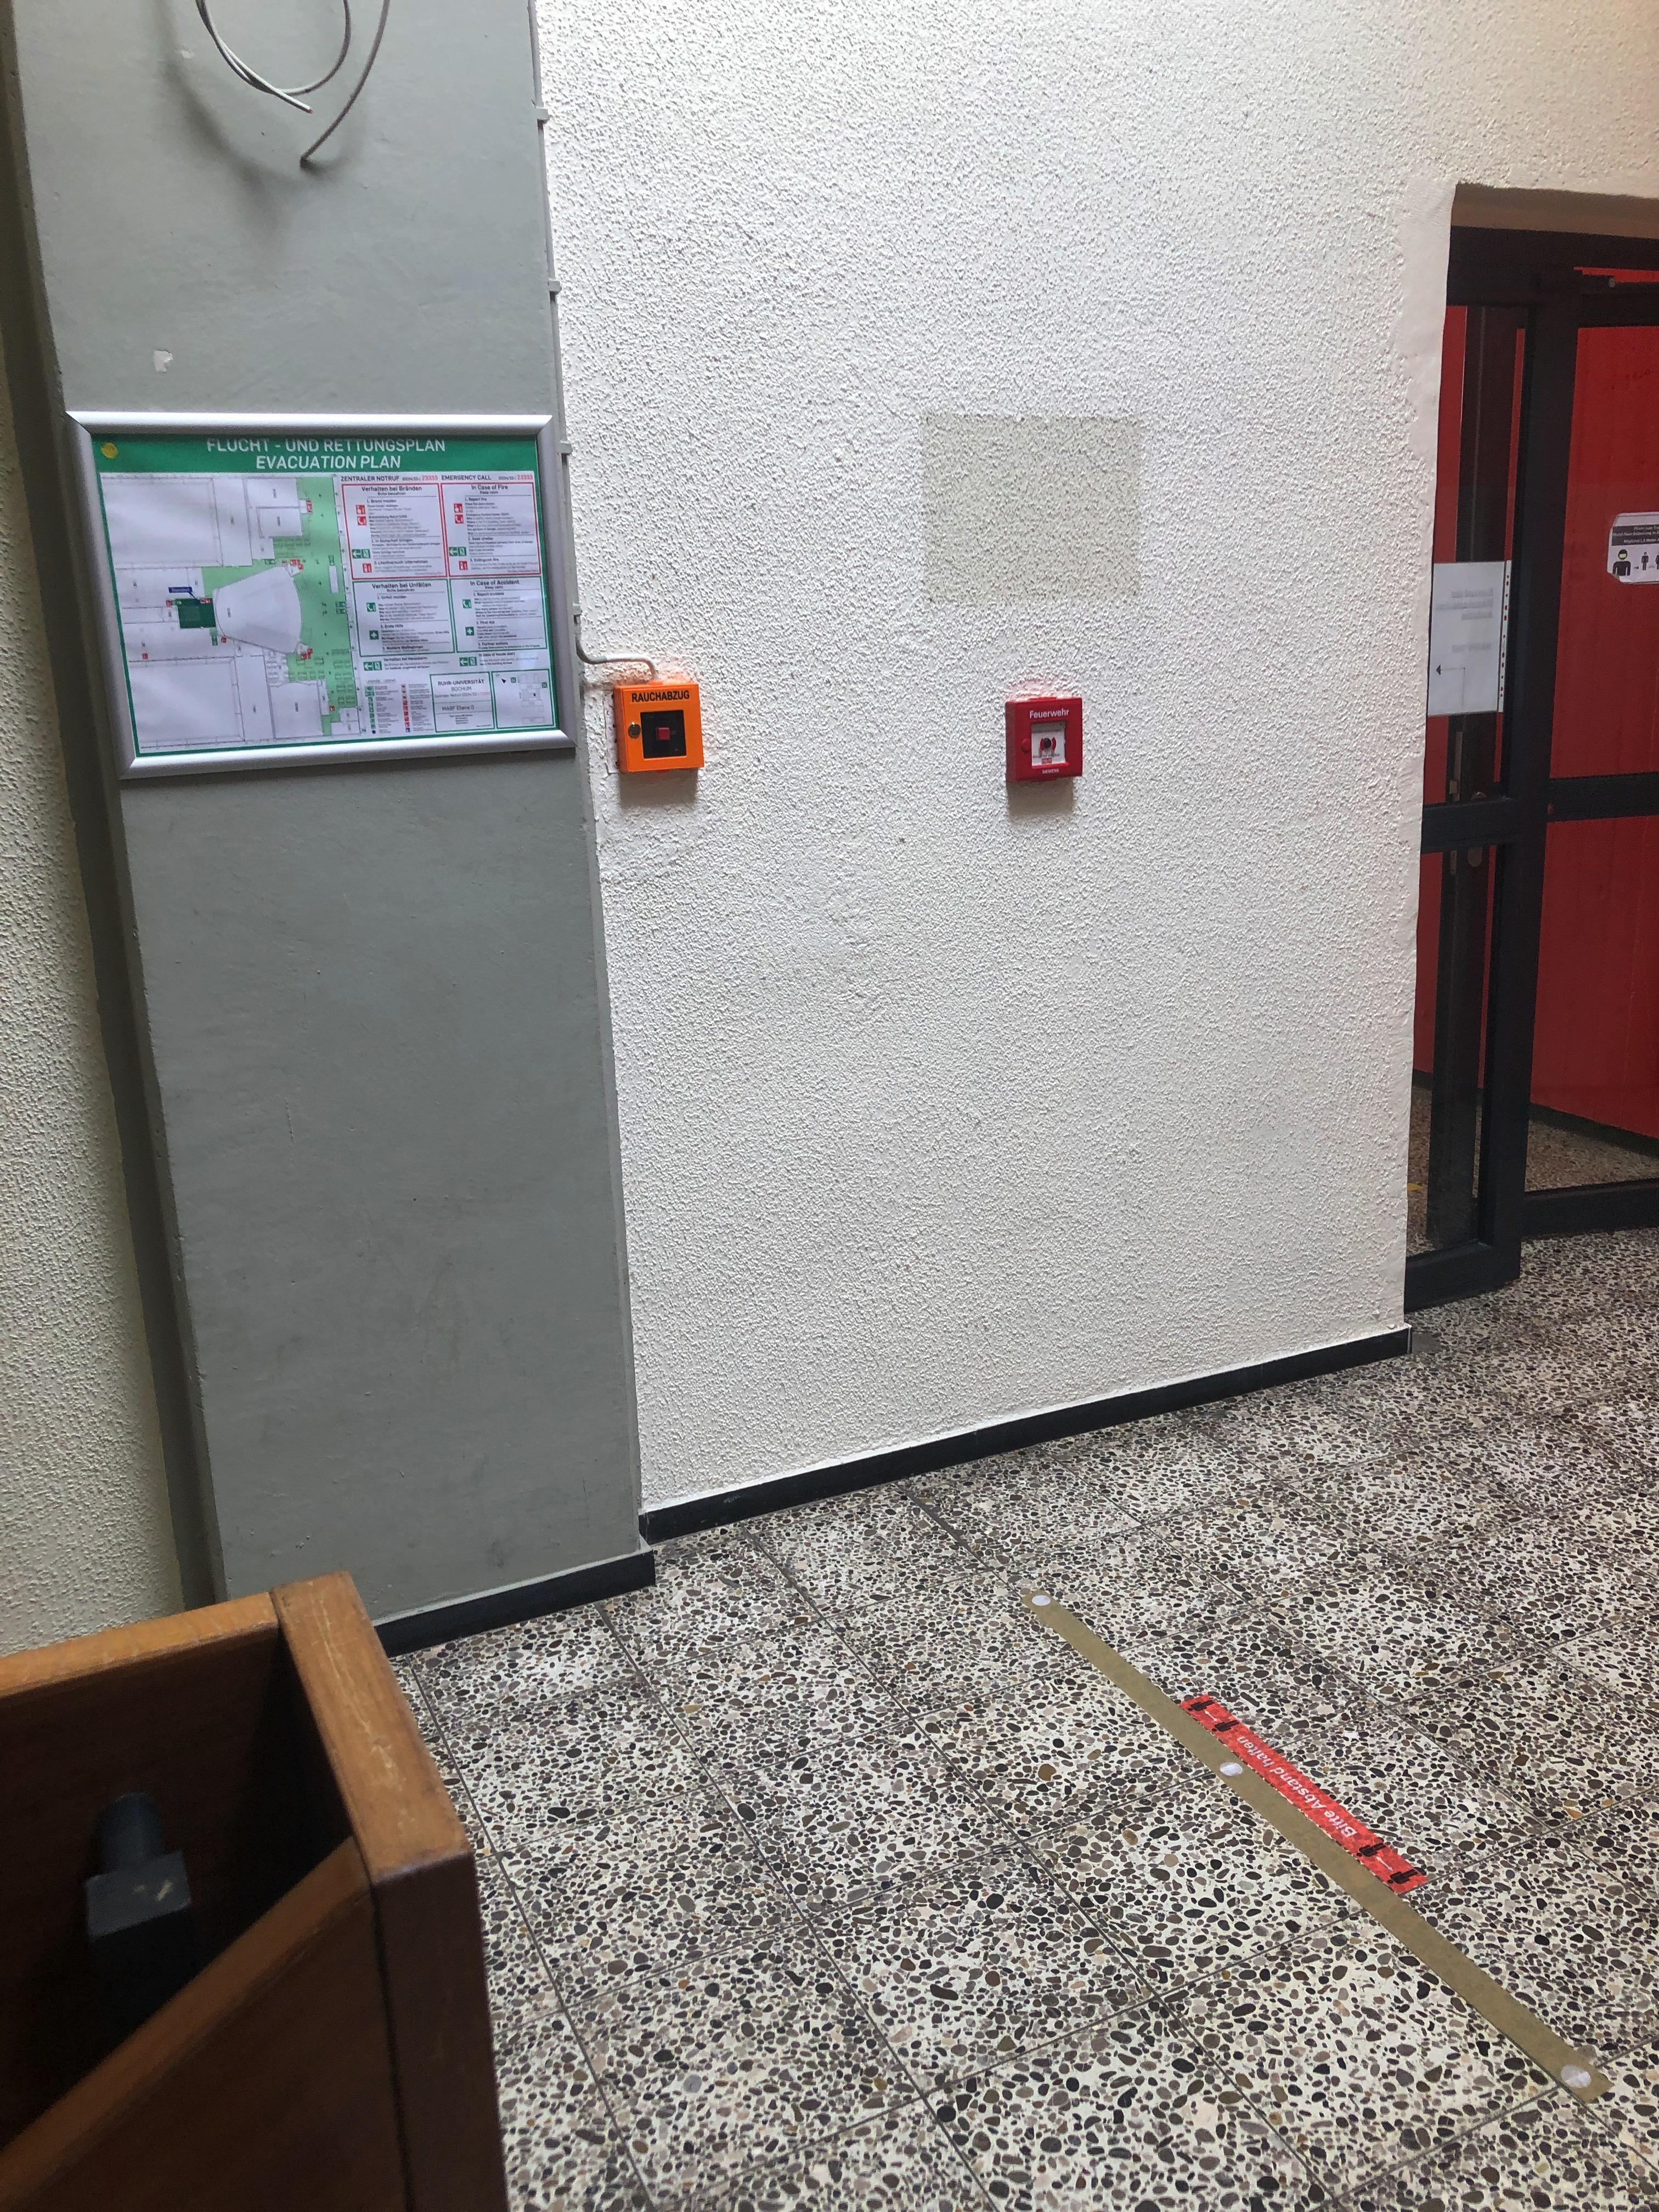call_point: (613, 683, 704, 774), (1005, 695, 1084, 783)
